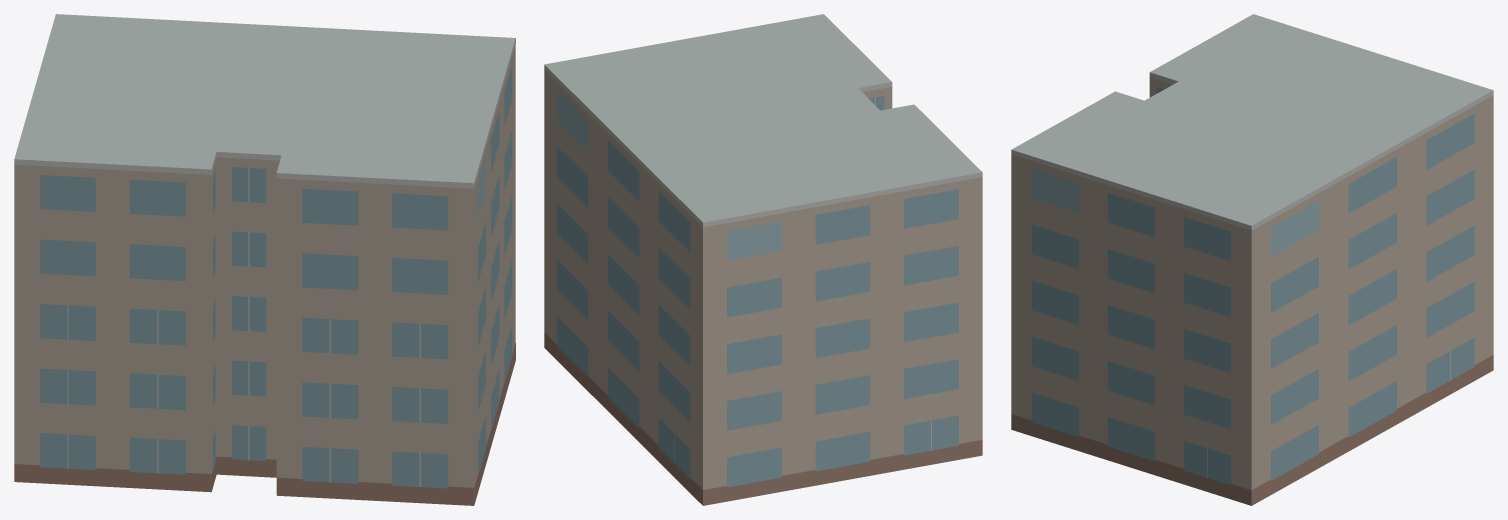
The model's file is survey-upis-32958102.glb.
3 renders of one model, left to right at view 1: azimuth 30°, elevation 25°; view 2: azimuth 150°, elevation 25°; view 3: azimuth 270°, elevation 25°, orthographic. The views are drawn at different scales.
Parts seen in each view (by area): view 1: survey-upis-32958102.tmp; view 2: survey-upis-32958102.tmp; view 3: survey-upis-32958102.tmp.
Boxes of the visible parts, x1,y1,x2,y2 form: survey-upis-32958102.tmp: (14, 14, 515, 505); survey-upis-32958102.tmp: (544, 14, 982, 505); survey-upis-32958102.tmp: (1011, 14, 1493, 505).
Size of the model in its own units: 23.38 by 14.4 by 22.49.
